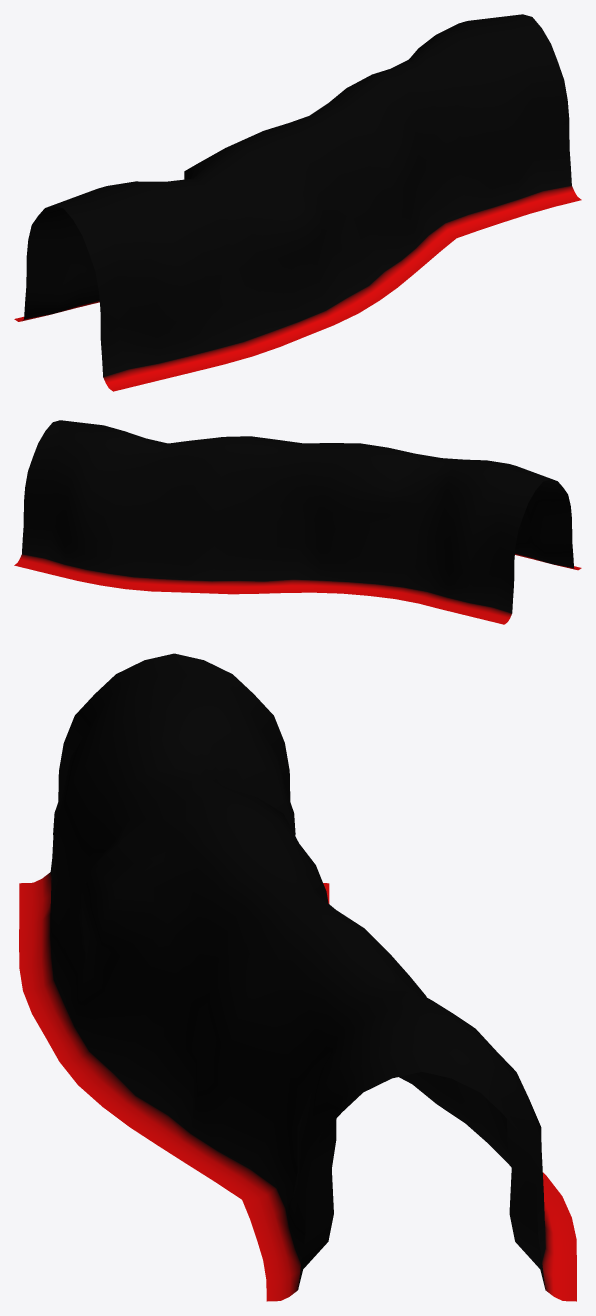
Rendered from GroundObject05C.fbx.
3 views of the same model, one above another, from view 1: azimuth 30°, elevation 25°; view 2: azimuth 150°, elevation 25°; view 3: azimuth 270°, elevation 25° (orthographic). The views are drawn at different scales.
Visible parts, largest first — view 1: GroundObject05C; view 2: GroundObject05C; view 3: GroundObject05C.
Boxes of the visible parts, x1,y1,x2,y2 form: GroundObject05C: (14, 14, 581, 391); GroundObject05C: (14, 420, 581, 624); GroundObject05C: (19, 653, 576, 1301).
Bounding box in the file's own units: 4 × 1.05 × 2.25.
